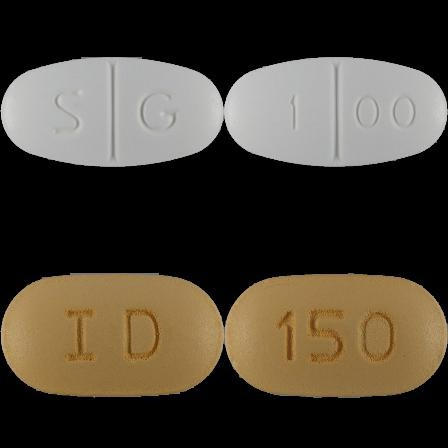47781-100: (0, 0, 224, 224)
